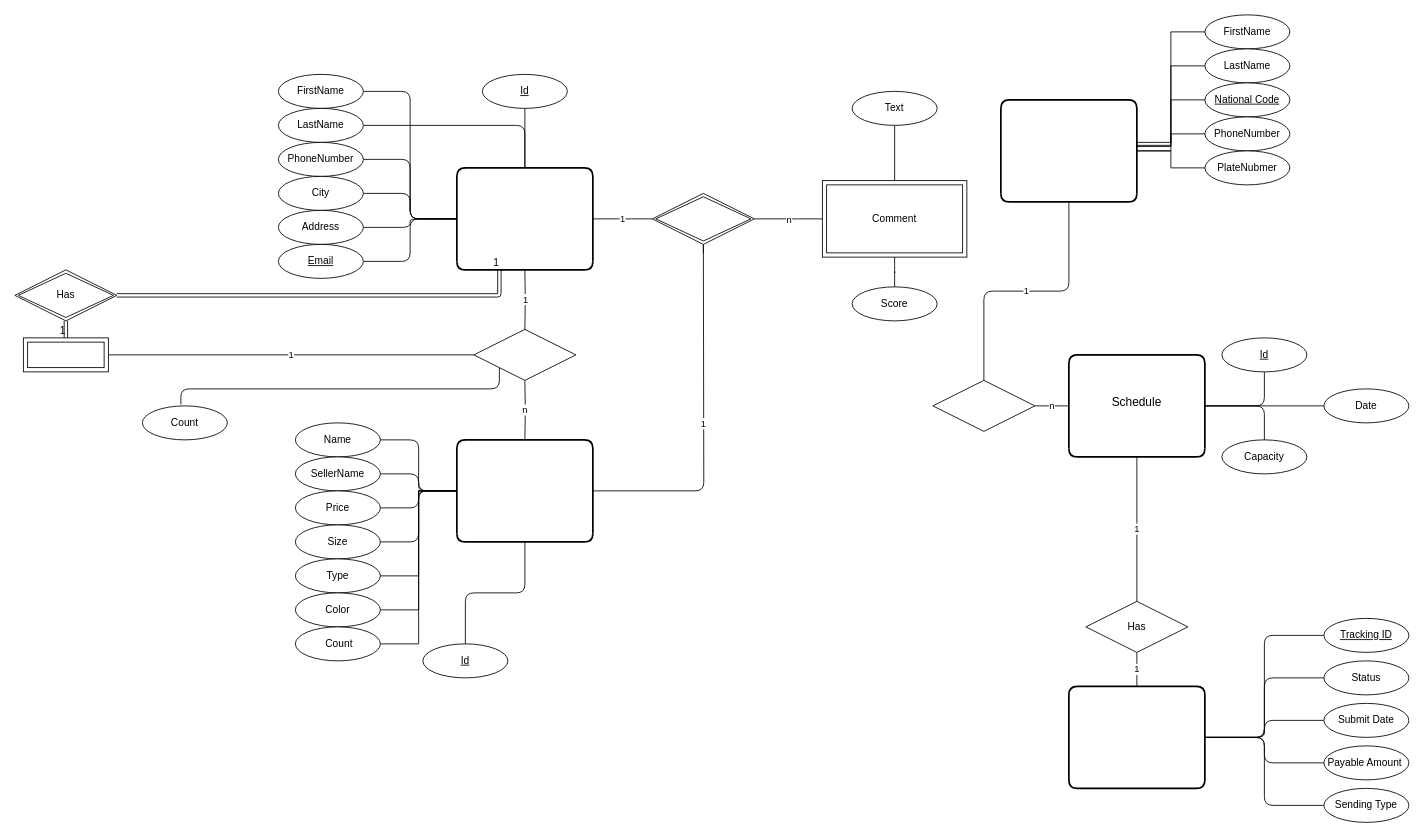
This 1424x837 diagram has some shape labels left out. The shapes that lost their labels are listed below. From the top down, each one's box as (x1, y1, x2, y2) in pixels, then its label:
(1000, 99, 1137, 202): Driver
(456, 167, 593, 270): User
(652, 193, 754, 244): Rate
(23, 337, 108, 372): Cart
(473, 329, 576, 380): Add/Remove
(932, 380, 1035, 431): Deliver
(456, 439, 593, 542): Clothing
(1068, 685, 1205, 789): Order
